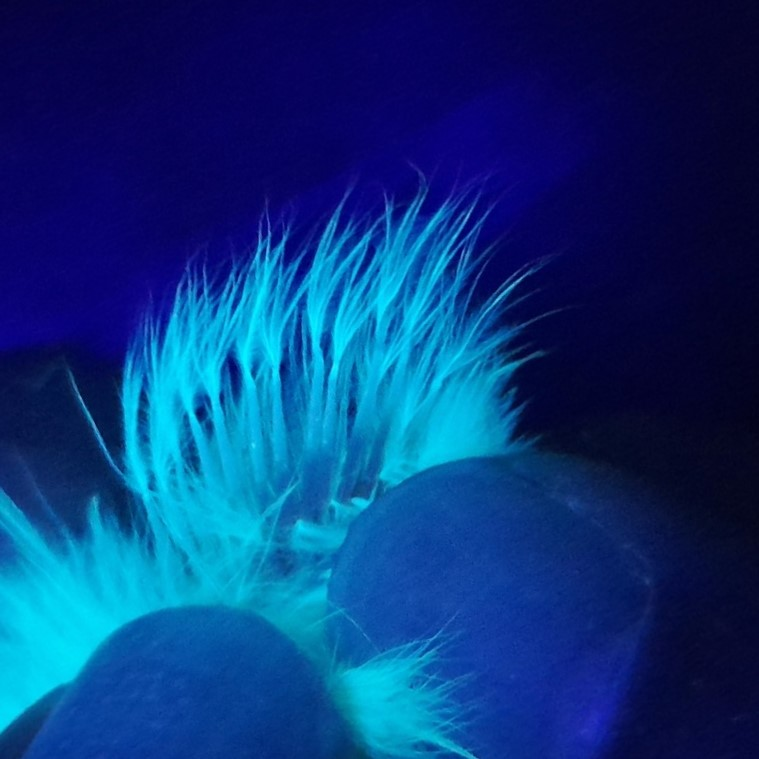male: (160, 309, 463, 596)
